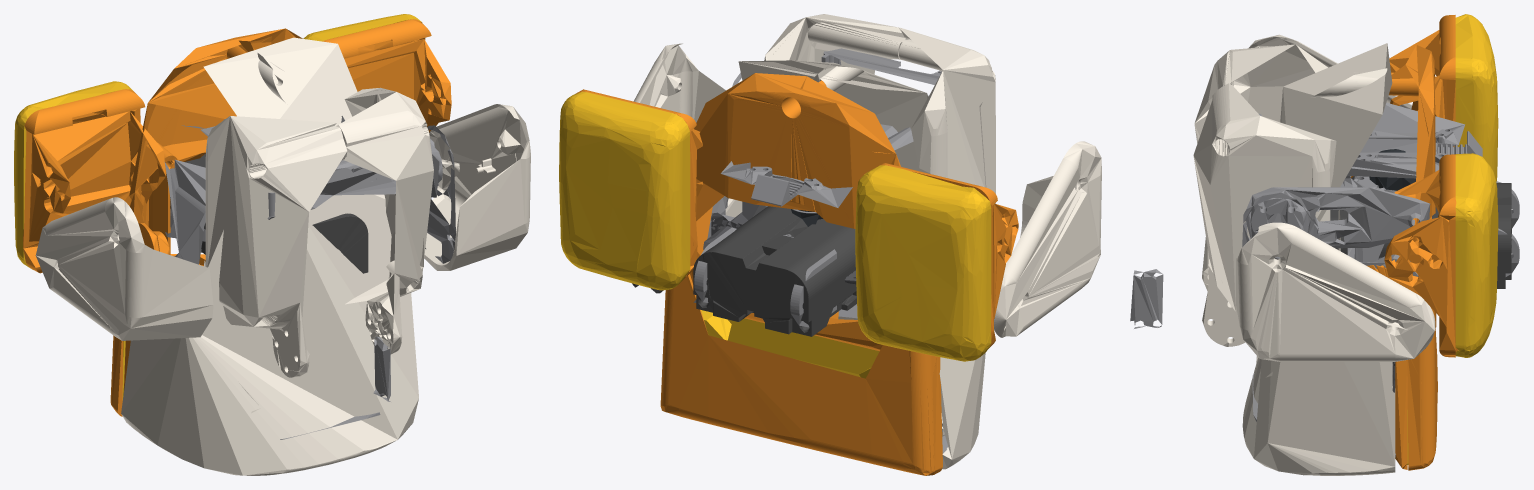
The model's file is microduck.glb.
3 renders of one model, left to right at view 1: azimuth 30°, elevation 25°; view 2: azimuth 150°, elevation 25°; view 3: azimuth 270°, elevation 25°, orthographic. The views are drawn at different scales.
Visible parts, largest first — view 1: top_head_shell.stl, right_shell.stl, upper_leg_right.stl, left_shell.stl, upper_leg_left.stl, bottom_head_shell.stl, ankle_right.stl, ankle_left.stl, foot_right.stl, motor_support.stl, sole_right.stl, np_f970.stl (+6 smaller); view 2: jaw.stl, sole_right.stl, sole_left.stl, bottom_head_shell.stl, np_f970.stl, upper_leg_right.stl, right_shell.stl, top_head_shell.stl, left_shell.stl, soft_mouth_top.stl, upper_leg_left.stl, power_support.stl (+6 smaller); view 3: top_head_shell.stl, upper_leg_left.stl, left_shell.stl, sole_left.stl, leg.stl, right_shell.stl, bottom_head_shell.stl, sole_right.stl, power_support.stl, ankle_left.stl, jaw.stl, foot_left.stl (+9 smaller).
Part boxes in pixels (box(x1,y1,x2,y2)): top_head_shell.stl: box(121, 37, 418, 475); right_shell.stl: box(205, 116, 347, 377); upper_leg_right.stl: box(35, 197, 213, 340); left_shell.stl: box(336, 87, 433, 354); upper_leg_left.stl: box(424, 104, 530, 270); bottom_head_shell.stl: box(123, 28, 302, 392); ankle_right.stl: box(29, 111, 165, 241); ankle_left.stl: box(344, 39, 451, 132); foot_right.stl: box(23, 89, 145, 273); motor_support.stl: box(164, 159, 205, 264); sole_right.stl: box(14, 81, 132, 269); np_f970.stl: box(170, 153, 368, 273); jaw.stl: box(660, 274, 942, 475); sole_right.stl: box(855, 165, 991, 361); sole_left.stl: box(559, 91, 690, 290); bottom_head_shell.stl: box(690, 73, 942, 466); np_f970.stl: box(693, 206, 856, 336); upper_leg_right.stl: box(994, 141, 1101, 337); right_shell.stl: box(899, 28, 995, 203); top_head_shell.stl: box(725, 60, 985, 469); left_shell.stl: box(764, 14, 905, 74); soft_mouth_top.stl: box(727, 318, 879, 374); upper_leg_left.stl: box(633, 43, 733, 206); power_support.stl: box(721, 51, 928, 207); top_head_shell.stl: box(1242, 43, 1395, 475); upper_leg_left.stl: box(1236, 222, 1435, 361); left_shell.stl: box(1193, 83, 1336, 346); sole_left.stl: box(1455, 153, 1498, 357); leg.stl: box(1245, 187, 1430, 248); right_shell.stl: box(1194, 44, 1327, 290); bottom_head_shell.stl: box(1389, 45, 1436, 469); sole_right.stl: box(1455, 14, 1498, 181); power_support.stl: box(1259, 102, 1482, 186); ankle_left.stl: box(1384, 170, 1448, 326); jaw.stl: box(1351, 176, 1437, 470); foot_left.stl: box(1439, 154, 1458, 357).
Size of the model in its own units: 0.1415 by 0.1222 by 0.1183.
